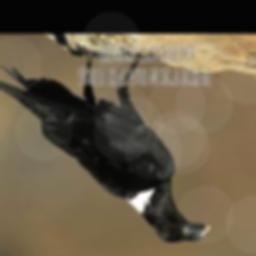Crow: (0, 43, 212, 244)
